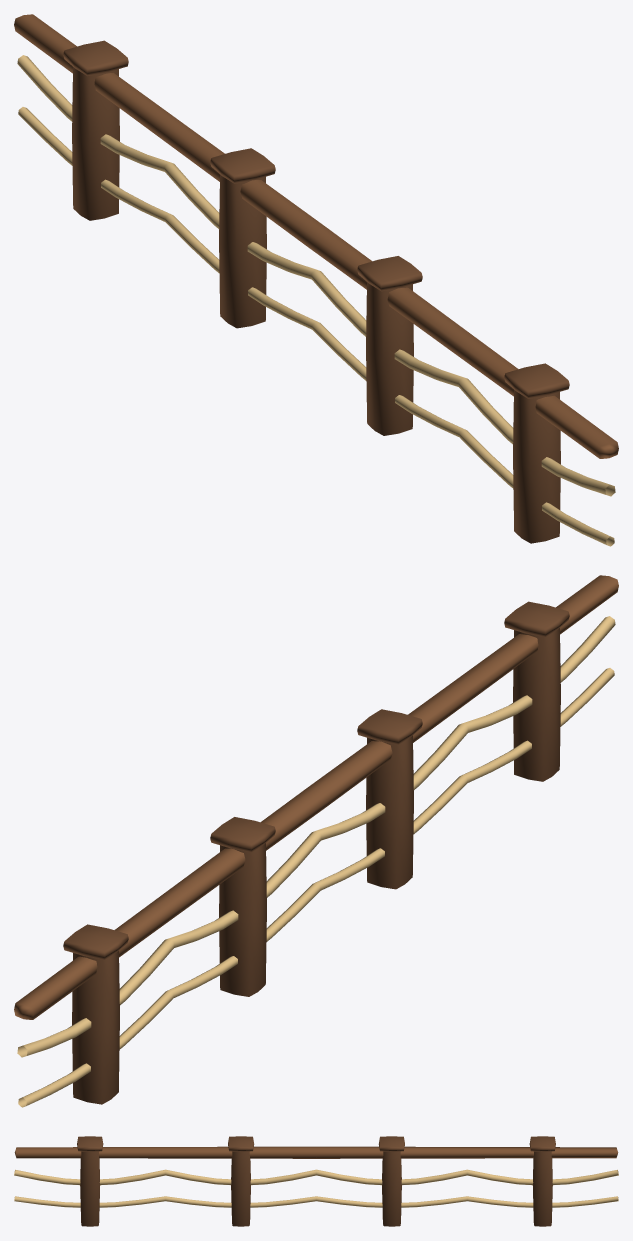
Rendered from SkateRail.obj.
The picture shows the model from 3 angles, top to bottom: view 1: azimuth 30°, elevation 25°; view 2: azimuth 150°, elevation 25°; view 3: azimuth 270°, elevation 25°; orthographic projection. The views are drawn at different scales.
Visible parts, largest first — view 1: Posts, Rail, Rope; view 2: Posts, Rail, Rope; view 3: Posts, Rope, Rail.
Boxes of the visible parts, x1=… form: Posts: x1=63, y1=40, x2=569, y2=543; Rail: x1=14, y1=14, x2=618, y2=458; Rope: x1=17, y1=55, x2=615, y2=546; Posts: x1=63, y1=601, x2=569, y2=1104; Rail: x1=14, y1=575, x2=618, y2=1019; Rope: x1=17, y1=616, x2=615, y2=1107; Posts: x1=77, y1=1136, x2=555, y2=1226; Rope: x1=14, y1=1169, x2=618, y2=1207; Rail: x1=14, y1=1146, x2=618, y2=1158.
Bounding box in the file's own units: 1.05 × 3.65 × 24.06.
